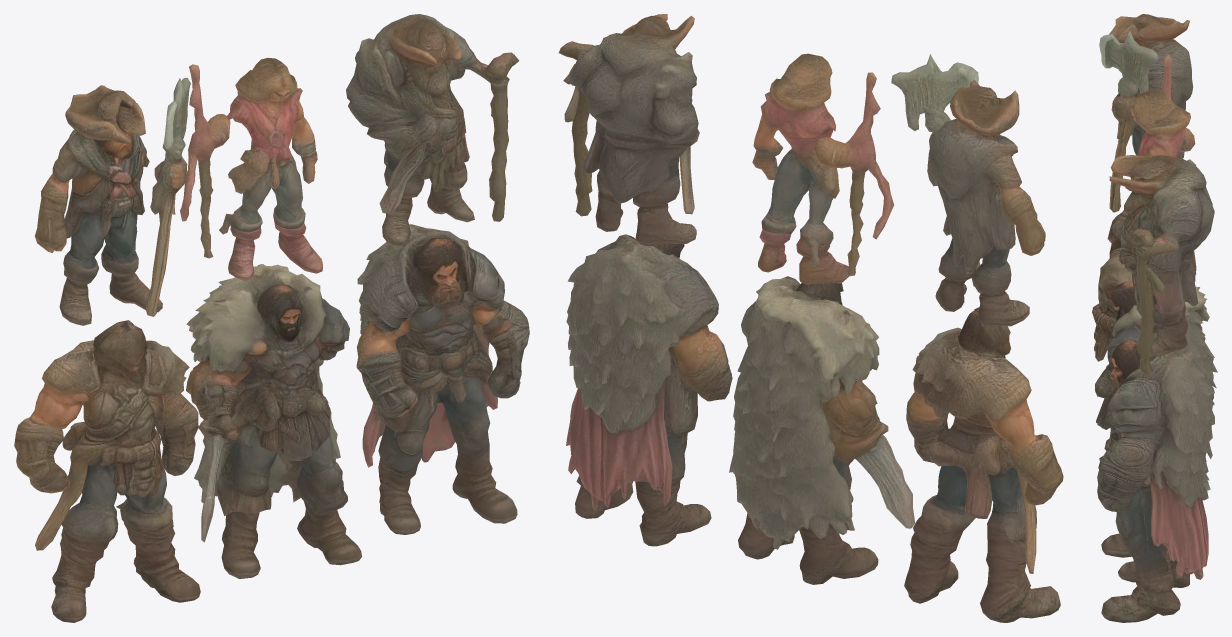
Rendered from enemies_bandits_a.glb.
The picture shows the model from 3 angles, left to right: view 1: azimuth 30°, elevation 25°; view 2: azimuth 150°, elevation 25°; view 3: azimuth 270°, elevation 25°; orthographic projection. The views are drawn at different scales.
Size of the model in its own units: 1.89 by 1.91 by 0.4775.
Materials: 1 (1 with a texture image).
